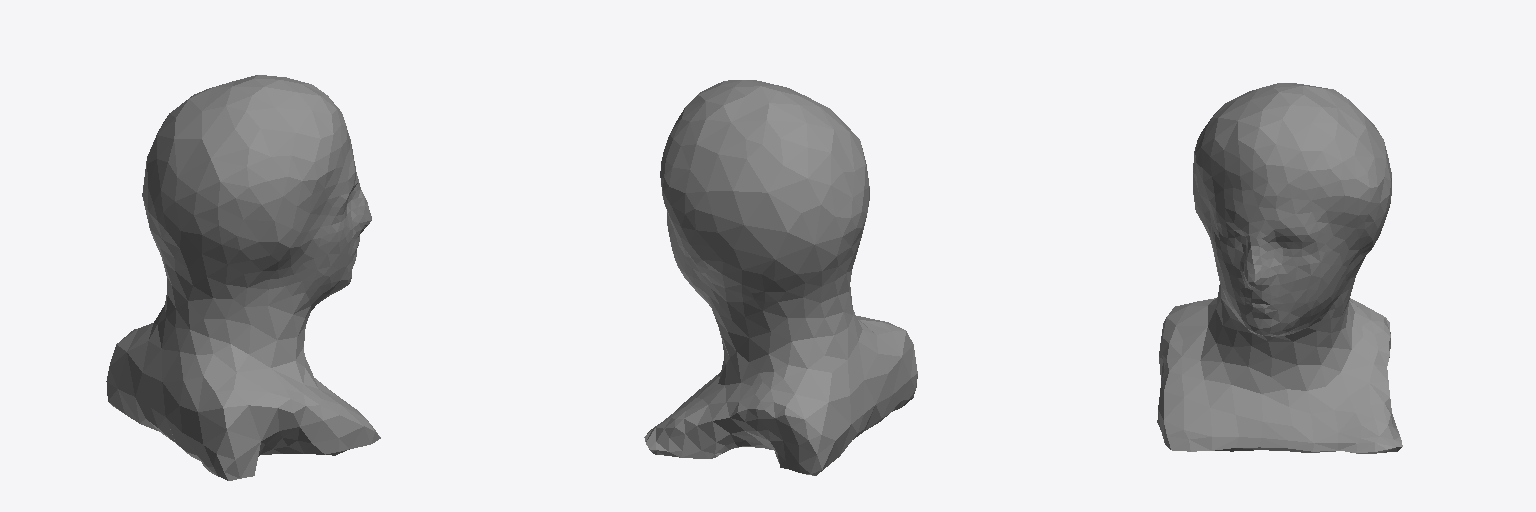
File: greek_boy_head.obj
The picture shows the model from 3 angles: view 1: azimuth 30°, elevation 25°; view 2: azimuth 150°, elevation 25°; view 3: azimuth 270°, elevation 25°; orthographic projection.
Visible parts, largest first — view 1: greek_boy_head; view 2: greek_boy_head; view 3: greek_boy_head.
Boxes of the visible parts, x1=… form: greek_boy_head: x1=106, y1=75, x2=380, y2=480; greek_boy_head: x1=644, y1=80, x2=917, y2=475; greek_boy_head: x1=1157, y1=83, x2=1402, y2=453.
Bounding box in the file's own units: 4.63 × 7.21 × 4.78.